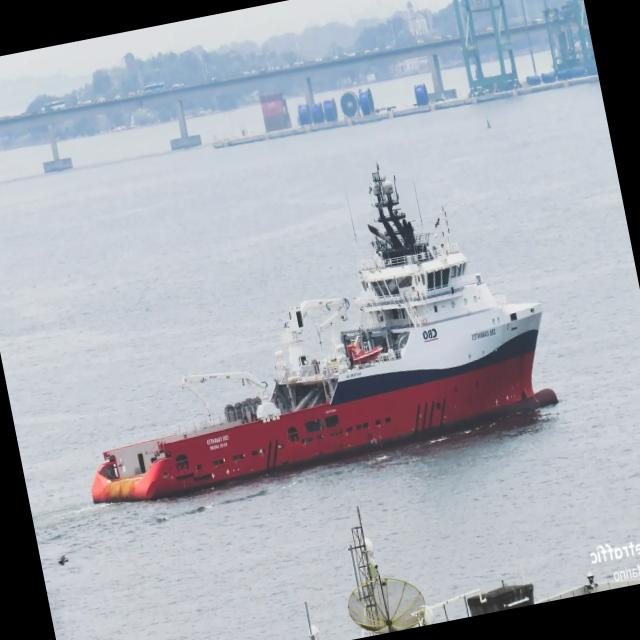Offshore: (92, 166, 557, 502)
